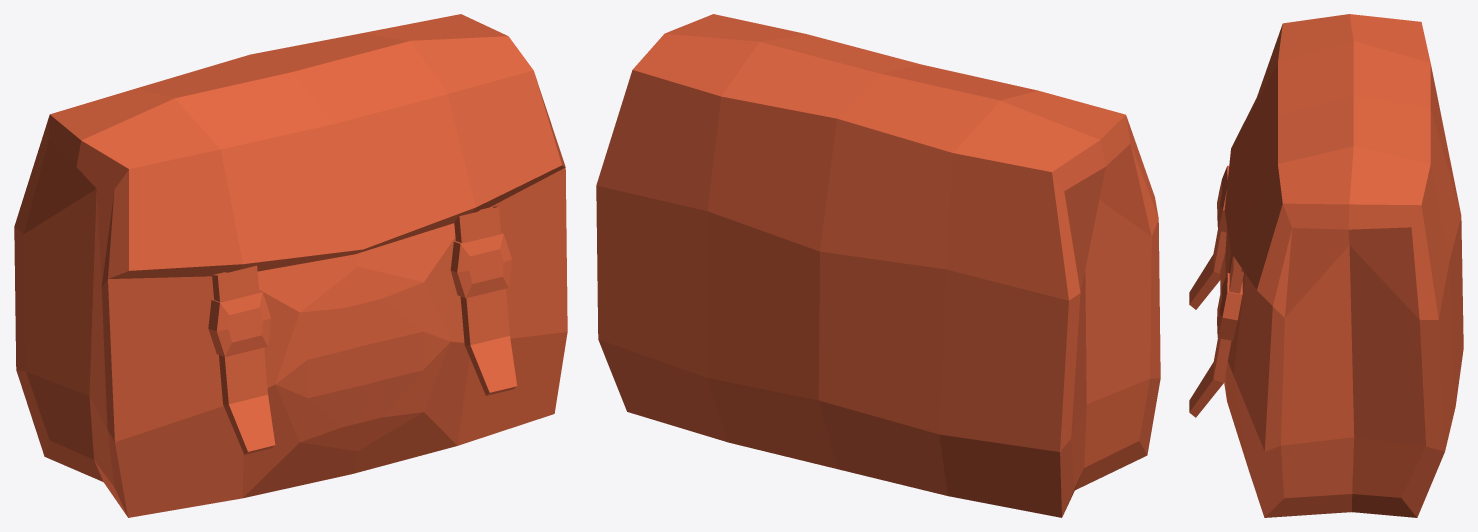
Rendered from medkit.fbx.
3 views of the same model, side by side, from view 1: azimuth 30°, elevation 25°; view 2: azimuth 150°, elevation 25°; view 3: azimuth 270°, elevation 25° (orthographic). The views are drawn at different scales.
Visible parts, largest first — view 1: medkit; view 2: medkit; view 3: medkit.
Part boxes in pixels (x1=…): medkit: x1=14, y1=14, x2=567, y2=517; medkit: x1=596, y1=14, x2=1160, y2=517; medkit: x1=1189, y1=14, x2=1463, y2=517.
Bounding box in the file's own units: 0.3191 × 0.2395 × 0.1785.
